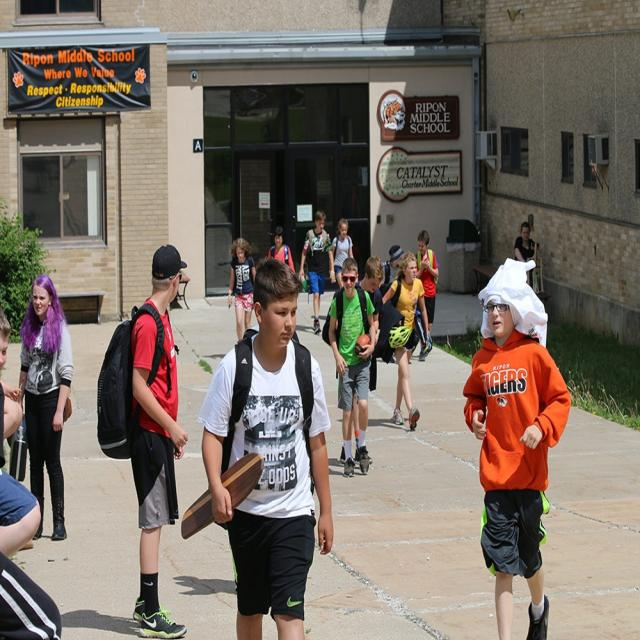body: (176, 252, 339, 639), (459, 253, 574, 639), (93, 239, 192, 639), (0, 308, 64, 640), (14, 272, 76, 543), (327, 256, 378, 479), (374, 249, 434, 433), (334, 254, 384, 468), (297, 208, 337, 336), (414, 229, 439, 363), (227, 236, 257, 342), (331, 217, 358, 290), (266, 225, 296, 275), (381, 244, 406, 286), (514, 220, 538, 262)
